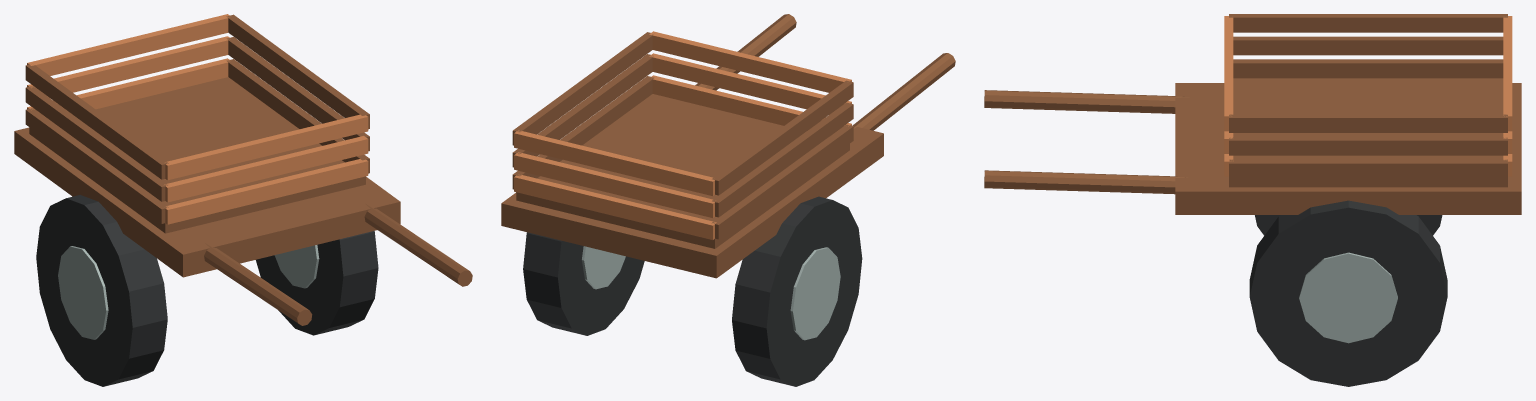
File: 018_hand_pulled_market_cart.glb
3 renders of one model, left to right at view 1: azimuth 30°, elevation 25°; view 2: azimuth 150°, elevation 25°; view 3: azimuth 270°, elevation 25°, orthographic. The views are drawn at different scales.
Parts seen in each view (by area): view 1: Hand-pulled market cart; view 2: Hand-pulled market cart; view 3: Hand-pulled market cart.
Boxes of the visible parts, x1,y1,x2,y2 form: Hand-pulled market cart: (14, 14, 472, 386); Hand-pulled market cart: (501, 14, 955, 386); Hand-pulled market cart: (984, 14, 1521, 386).
Size of the model in its own units: 1.5 by 1.45 by 2.72.
